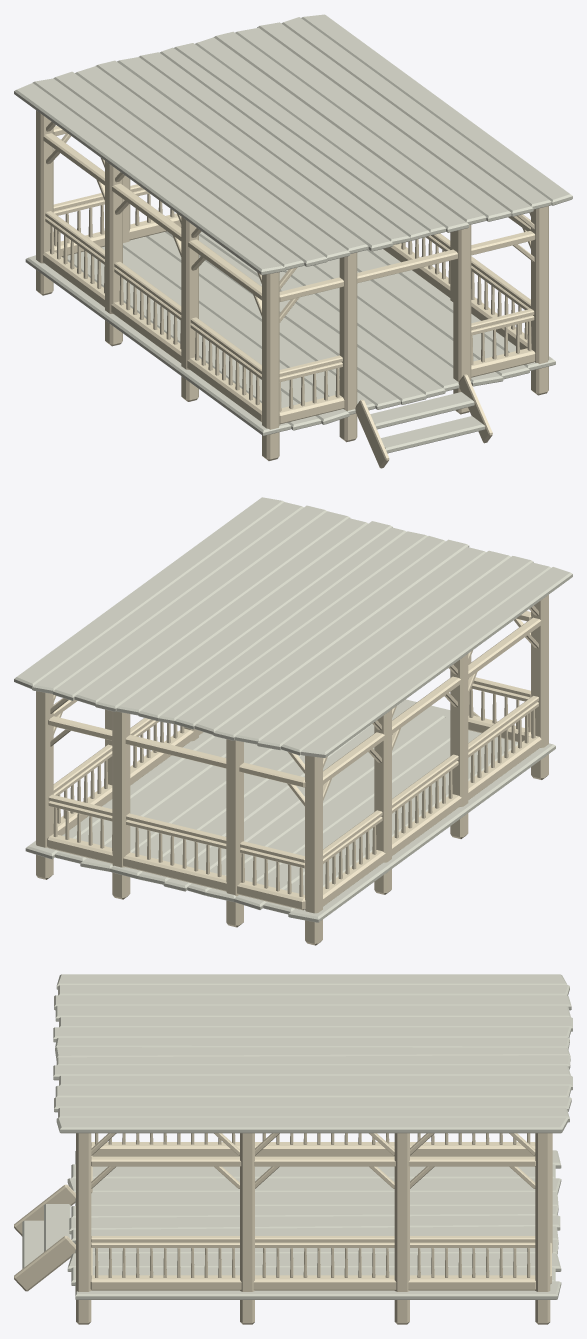
The model's file is farmstractures_06.gltf.
3 views of the same model, one above another, from view 1: azimuth 30°, elevation 25°; view 2: azimuth 150°, elevation 25°; view 3: azimuth 270°, elevation 25° (orthographic).
Visible parts, largest first — view 1: blades, body; view 2: blades, body; view 3: blades, body.
Boxes of the visible parts, x1,y1,x2,y2 form: blades: (14, 14, 569, 459); body: (25, 121, 572, 468); blades: (17, 497, 572, 943); body: (14, 605, 555, 945); blades: (53, 974, 572, 1322); body: (14, 974, 572, 1324).
Size of the model in its own units: 5.27 by 3.41 by 8.07.
1 material, 1 textured.
